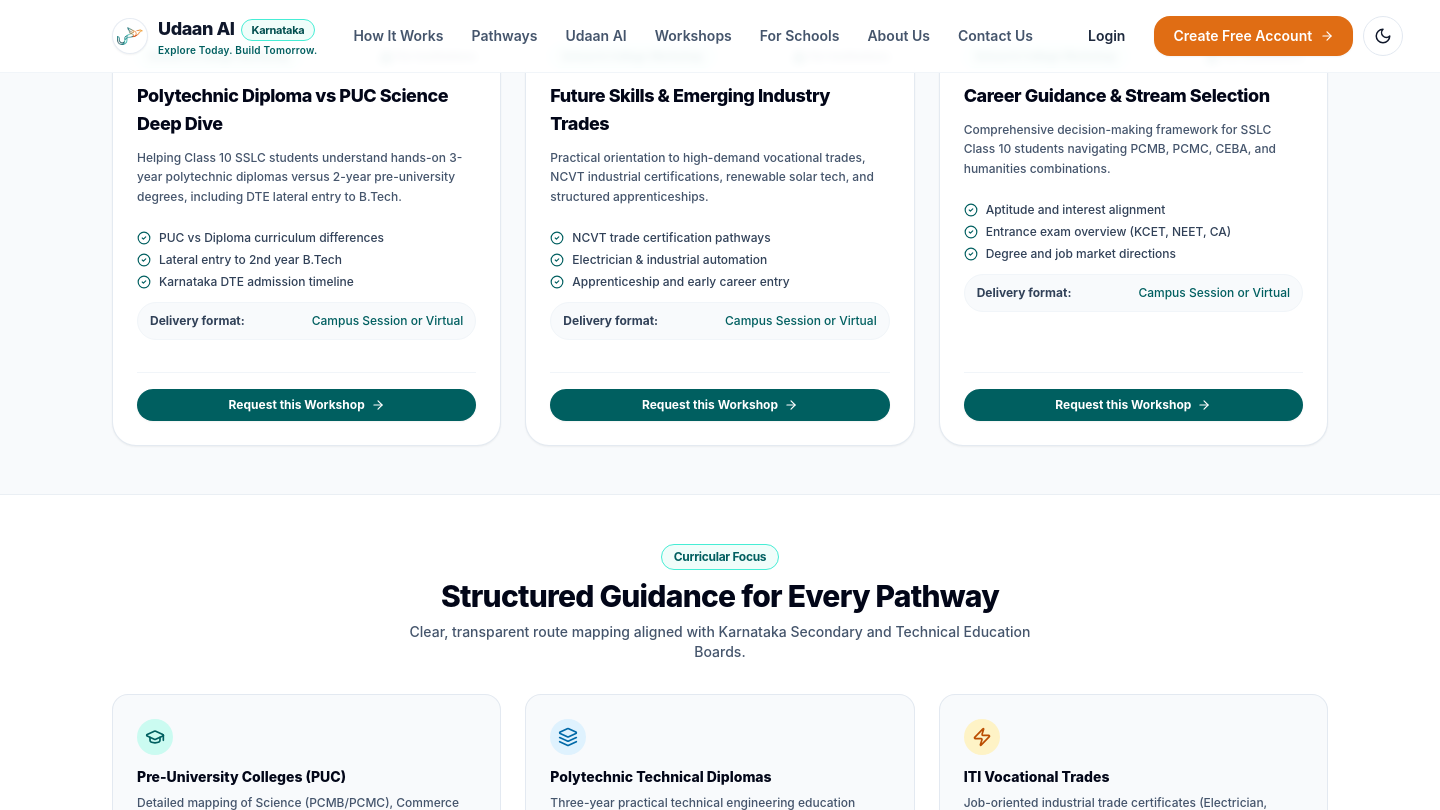
Scenario: HomePage Journeys: Workshops and Account Actions › Part 2: Honest Workshop Actions › workshop buttons open modal directly for guest without redirecting
The width and height of the screenshot is (1440, 810).
(page scrolled)
Note: Click the first card's request button
Click the button "Request this Workshop" below "Karnataka DTE admission timeline" at (307, 405), box x1=137 y1=389 x2=476 y2=421
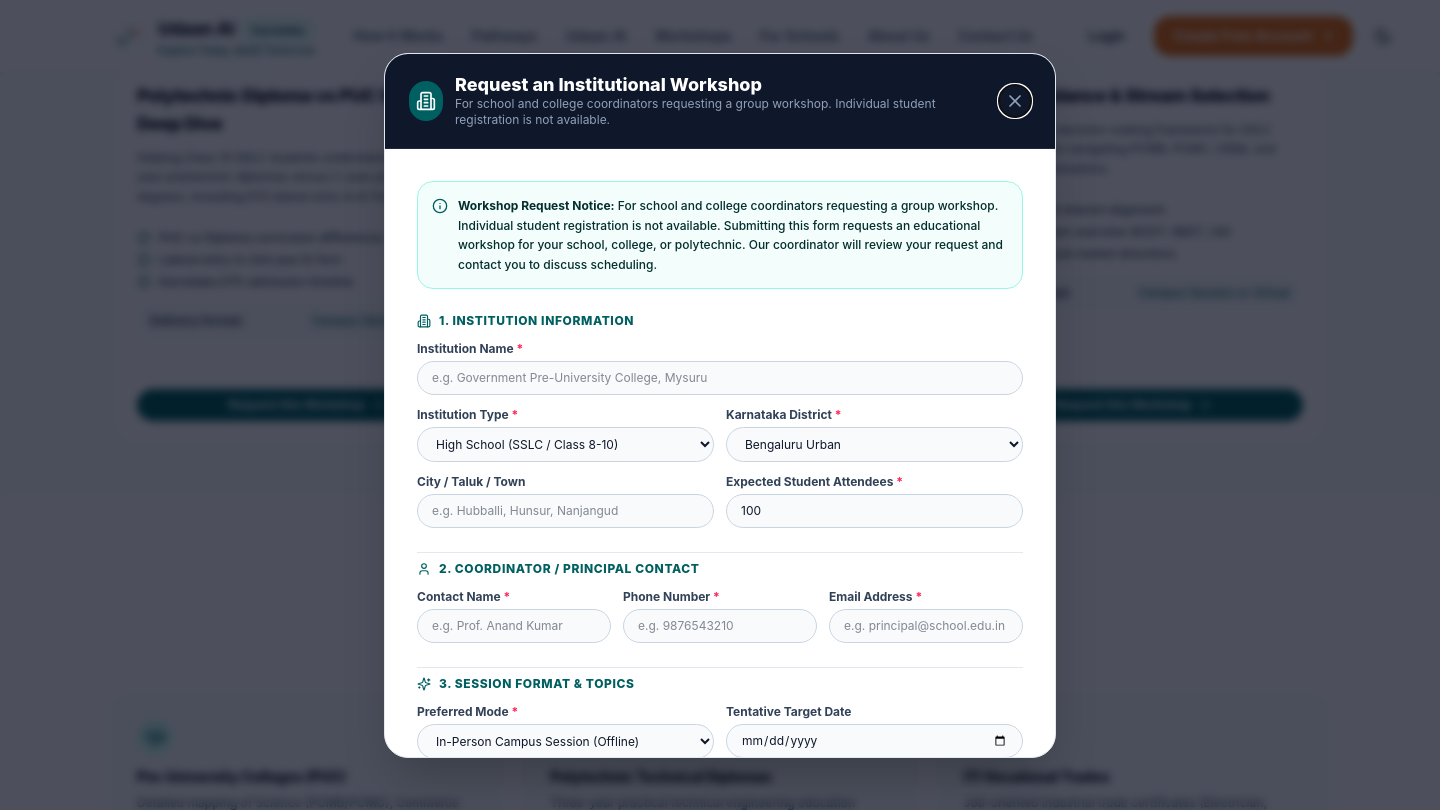
Result: the heading "Request an Institutional Workshop" is shown at x1=455 y1=74 x2=762 y2=94
Result: the text "Submitting this form requests an educational workshop" is shown at x1=458 y1=198 x2=1003 y2=272
